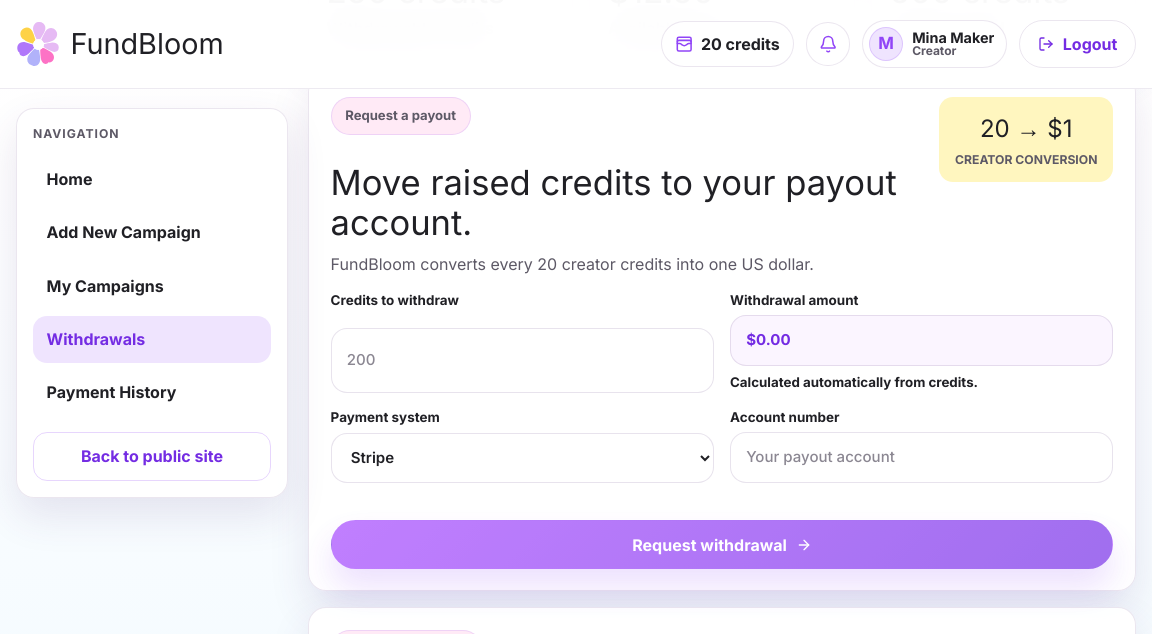
Test: creator withdrawals page › blocks requests above the available balance with field validation
The image size is (1152, 634).
(page scrolled)
Type "300" into the number field labelled "Credits to withdraw".
click(522, 361); type("300")  # box [331, 328, 714, 393]
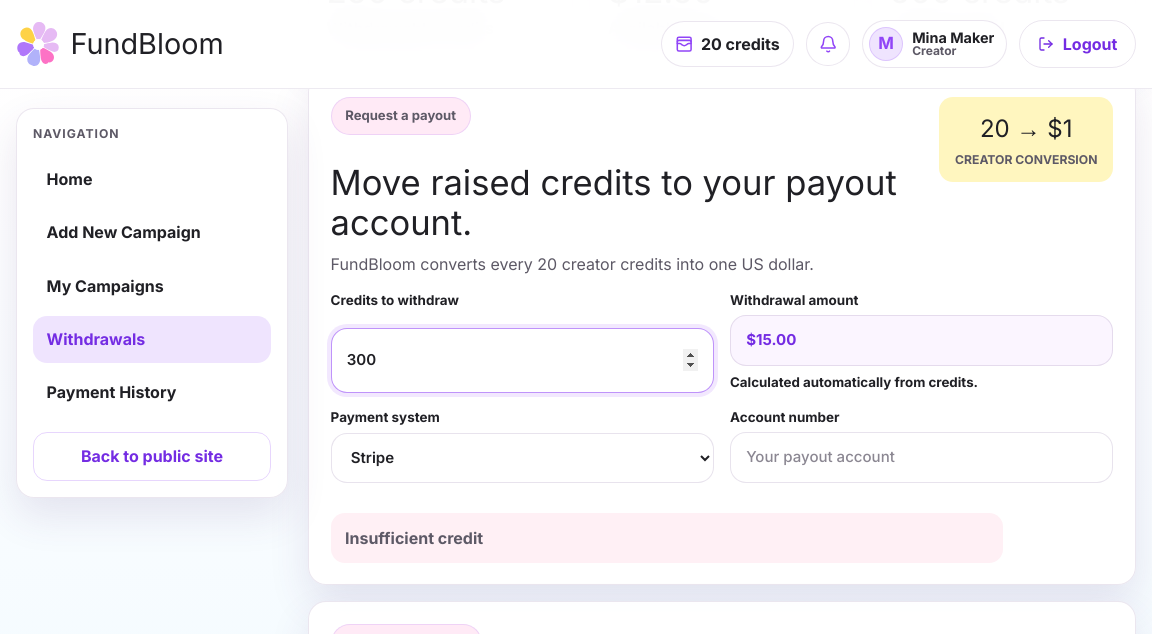
Expected: the text "Insufficient credit" is shown, [331, 513, 1003, 563]
Expected: the button "Request withdrawal" is gone
